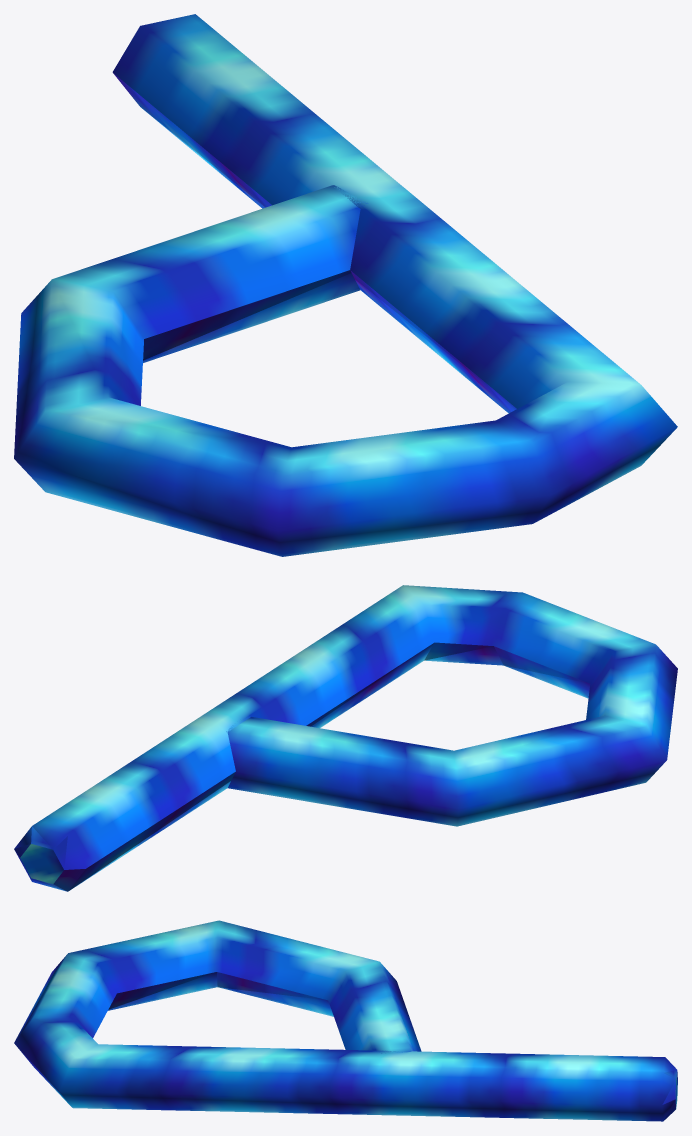
The model's file is furni_0200463.FBX.
The picture shows the model from 3 angles, top to bottom: view 1: azimuth 30°, elevation 25°; view 2: azimuth 150°, elevation 25°; view 3: azimuth 270°, elevation 25°; orthographic projection. The views are drawn at different scales.
Parts seen in each view (by area): view 1: furni_0200463; view 2: furni_0200463; view 3: furni_0200463.
Boxes of the visible parts, bbox=[...] form: furni_0200463: bbox=[14, 14, 677, 556]; furni_0200463: bbox=[14, 585, 677, 891]; furni_0200463: bbox=[14, 920, 677, 1121].
Bounding box in the file's own units: 38.12 × 5.11 × 63.17.
Materials: 1 (1 with a texture image).
